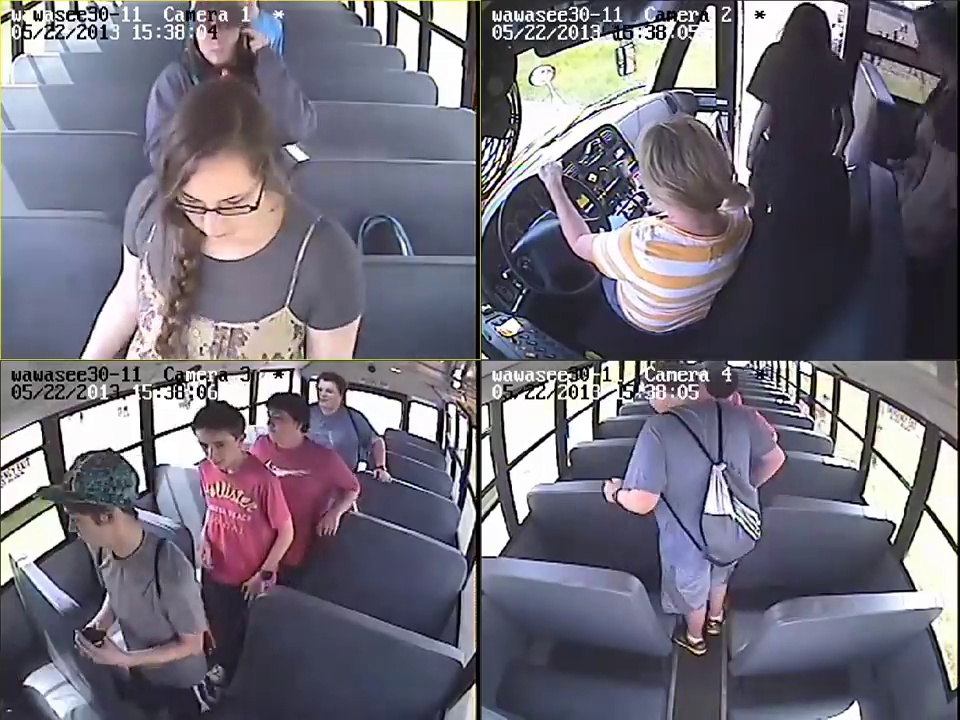face: (170, 165, 258, 258), (60, 501, 121, 547), (198, 429, 245, 473), (264, 401, 295, 445), (313, 377, 338, 420)
